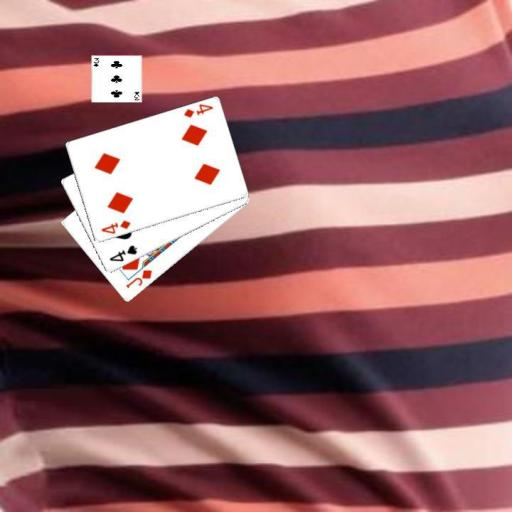4D: (98, 217, 132, 235), (180, 101, 214, 119)
4S: (106, 243, 139, 263)
JD: (122, 267, 154, 290)
